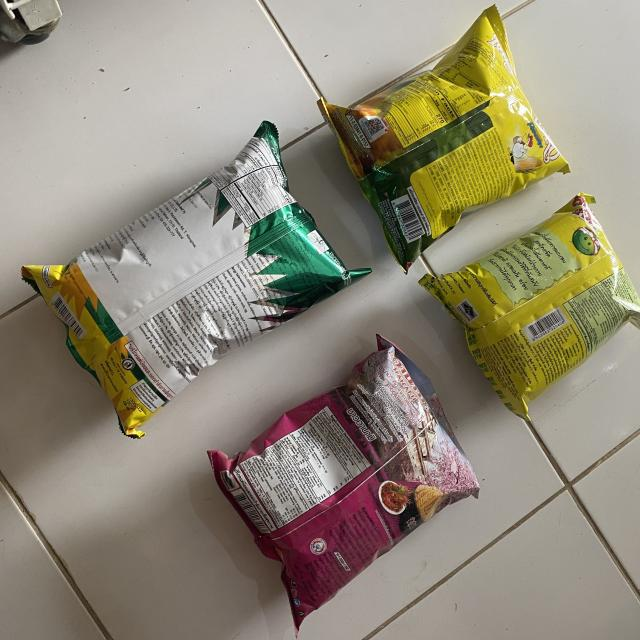plastik: (22, 121, 368, 435), (208, 336, 478, 633), (318, 6, 569, 270), (420, 193, 640, 420)
